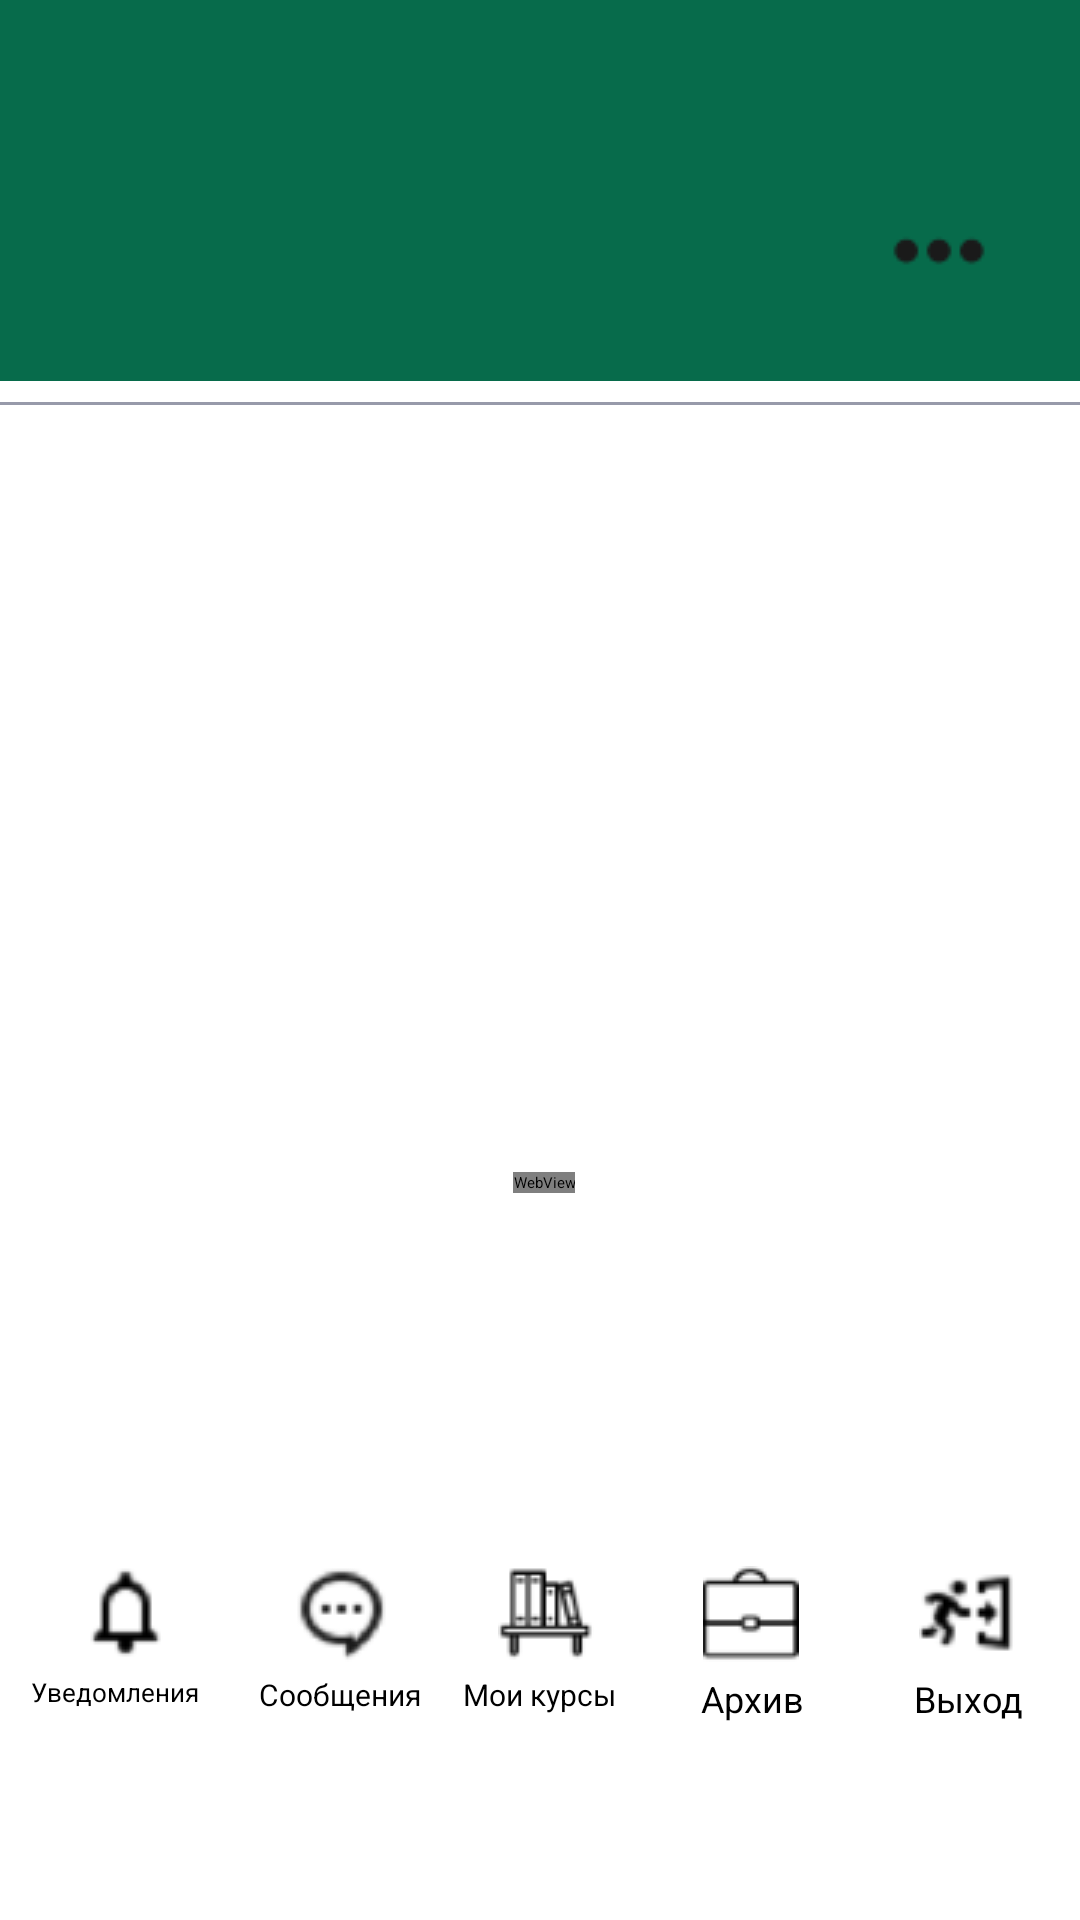

Locate icon controls on the screen. Image size 1080 × 1920, boxes as (x1, y1, x2, y2).
option: (894, 239, 984, 263)
